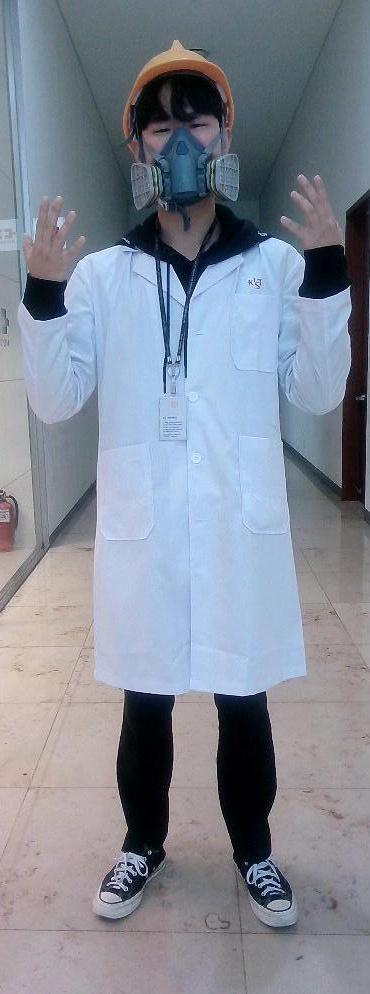lab_coat: (79, 242, 292, 688)
